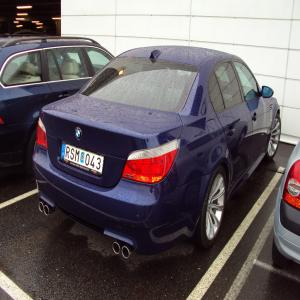Vehicle-registration-plate: (62, 144, 104, 174)
